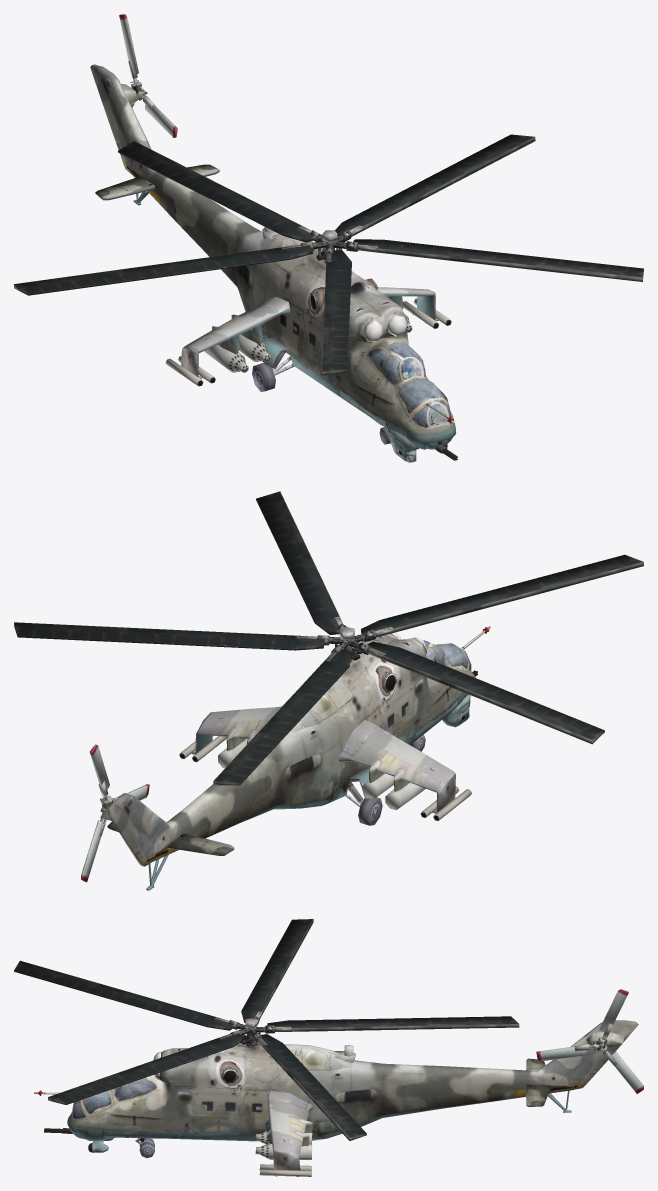
3 renders of one model, top to bottom at view 1: azimuth 30°, elevation 25°; view 2: azimuth 150°, elevation 25°; view 3: azimuth 270°, elevation 25°, orthographic. The views are drawn at different scales.
Parts seen in each view (by area): view 1: Body_lambert1_0, Top_Rotor_lambert1_0, Tail_Rotor_lambert1_0, R_Back_Wheel_lambert1_0; view 2: Body_lambert1_0, Top_Rotor_lambert1_0, Tail_Rotor_lambert1_0, R_Back_Wheel_lambert1_0; view 3: Body_lambert1_0, Top_Rotor_lambert1_0, Tail_Rotor_lambert1_0.
Part boxes in pixels (bbox=[...]): Body_lambert1_0: bbox=[90, 64, 457, 462]; Top_Rotor_lambert1_0: bbox=[14, 134, 643, 375]; Tail_Rotor_lambert1_0: bbox=[119, 14, 177, 137]; R_Back_Wheel_lambert1_0: bbox=[252, 351, 294, 391]; Body_lambert1_0: bbox=[100, 626, 490, 890]; Top_Rotor_lambert1_0: bbox=[14, 491, 643, 785]; Tail_Rotor_lambert1_0: bbox=[81, 744, 149, 882]; R_Back_Wheel_lambert1_0: bbox=[345, 780, 382, 825]; Body_lambert1_0: bbox=[34, 1020, 638, 1176]; Top_Rotor_lambert1_0: bbox=[14, 919, 519, 1140]; Tail_Rotor_lambert1_0: bbox=[536, 989, 643, 1093].
Size of the model in its own units: 13.06 by 4.86 by 15.97.
1 material, 1 textured.
